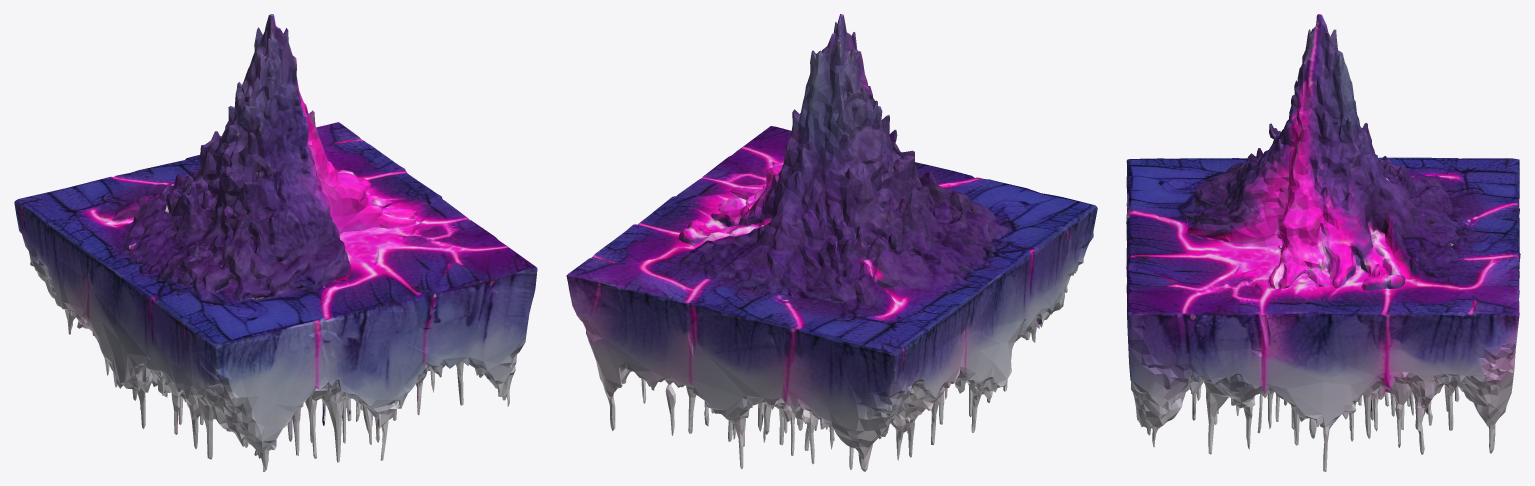
Rendered from solitude-plateau-generated-2026-04-19T18-12-34-007Z.high.glb.
3 views of the same model, side by side, from view 1: azimuth 30°, elevation 25°; view 2: azimuth 150°, elevation 25°; view 3: azimuth 270°, elevation 25° (orthographic). The views are drawn at different scales.
Parts seen in each view (by area): view 1: temp_mesh.ply; view 2: temp_mesh.ply; view 3: temp_mesh.ply.
Boxes of the visible parts, left/top/right/bottom form: temp_mesh.ply: left=14, top=14, right=537, bottom=471; temp_mesh.ply: left=566, top=14, right=1097, bottom=471; temp_mesh.ply: left=1126, top=14, right=1520, bottom=471.
Size of the model in its own units: 1.78 by 1.98 by 1.87.
1 material, 1 textured.
